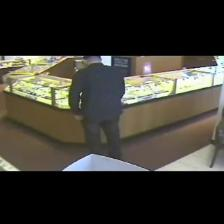person: (69, 56, 125, 159)
